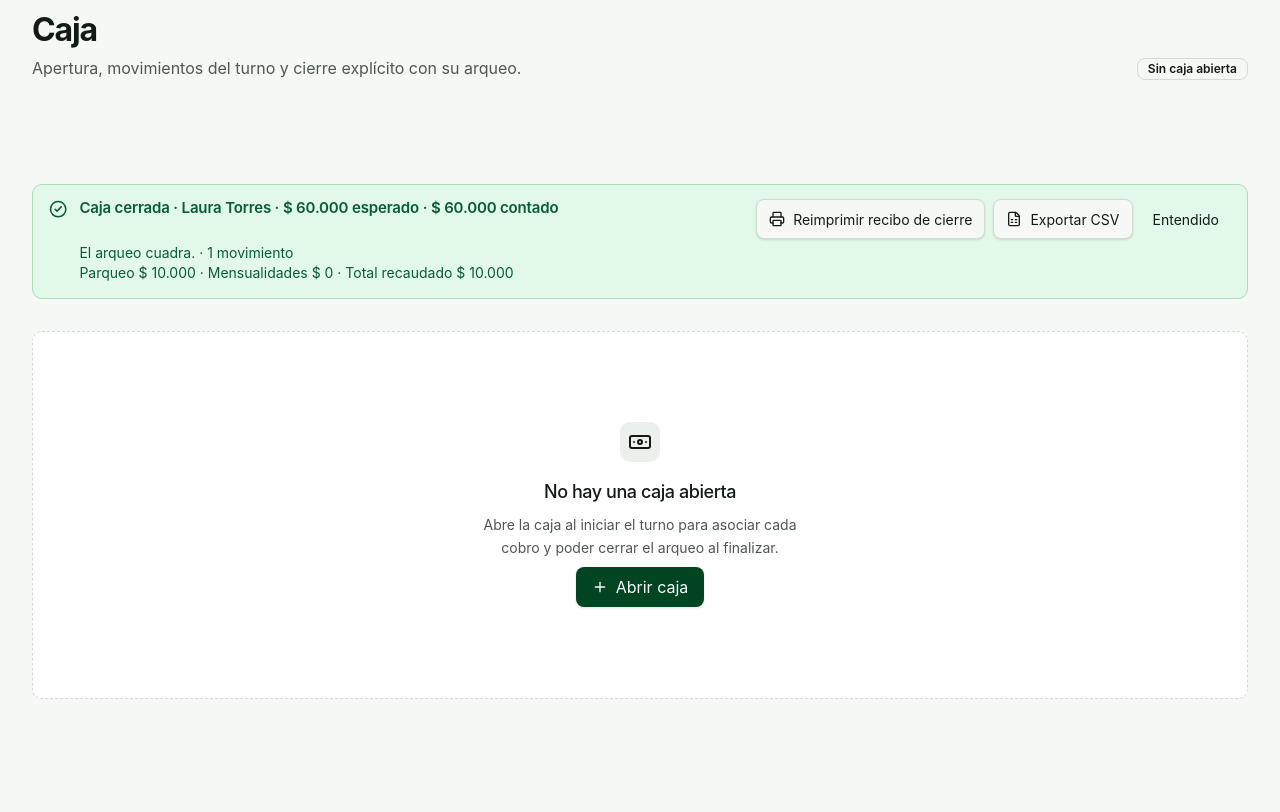
Caja › ofrece reimprimir el recibo del cierre recién hecho y deja descartarlo
This screenshot has width=1280, height=812.
Expected: the text "Caja cerrada" is shown, x1=79 y1=198 x2=170 y2=217
Expected: the button "Reimprimir recibo de cierre" is shown, x1=756 y1=199 x2=985 y2=239
What coordinates should you click on to do the following:
click the button "Entendido"
I would click on:
 (1186, 219)
Its box is x1=1140 y1=199 x2=1231 y2=239.
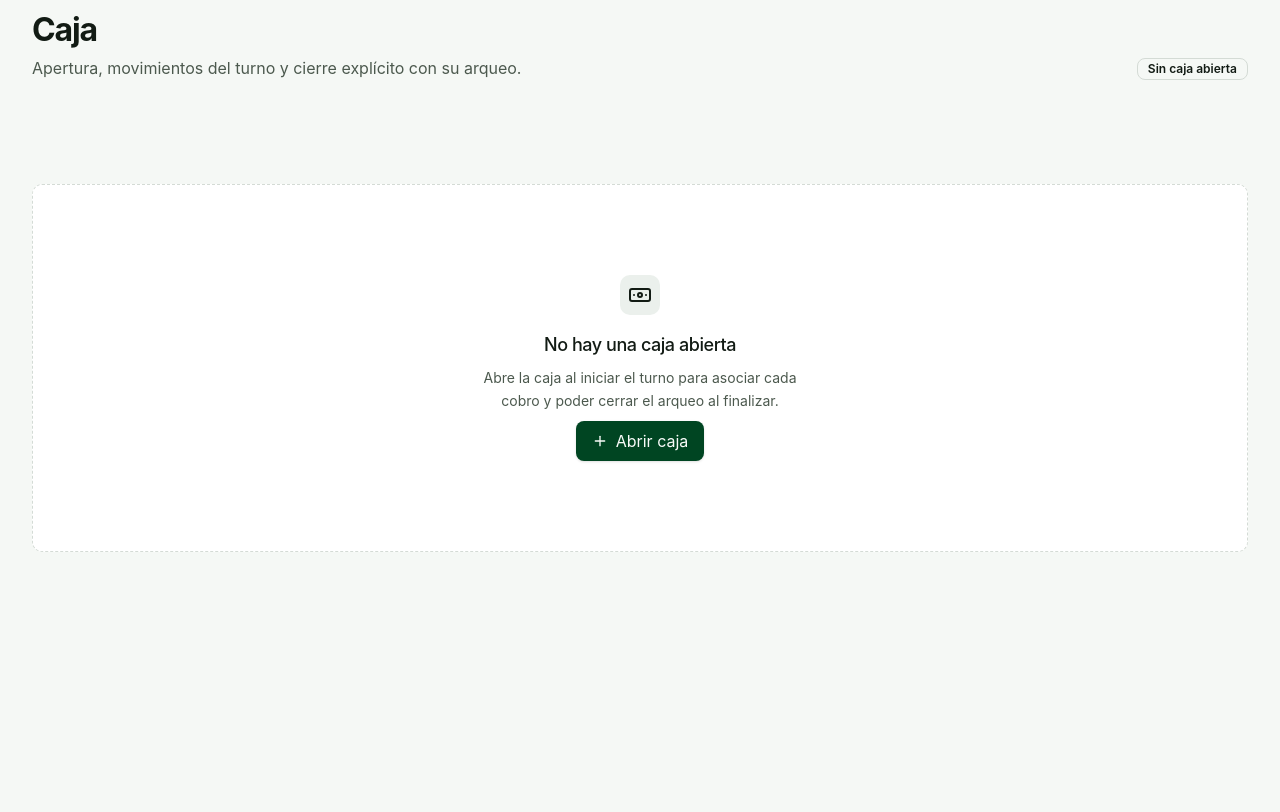
Result: the text "Caja cerrada" is gone
